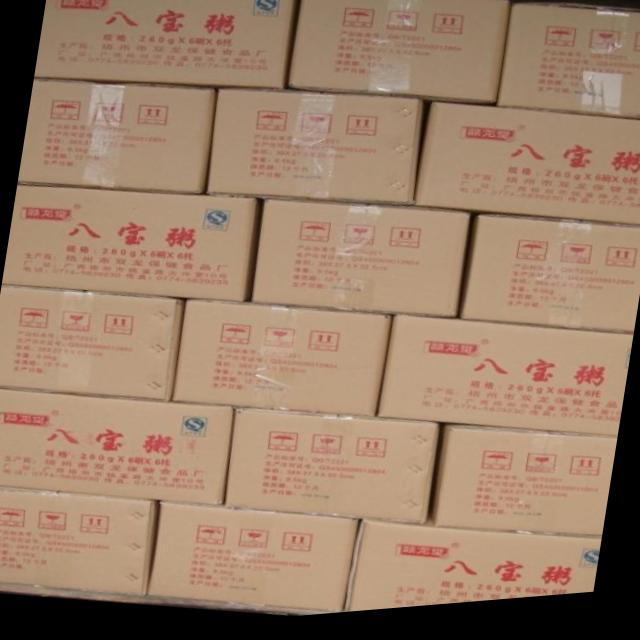box: (2, 184, 264, 305), (380, 321, 631, 447), (414, 107, 640, 236), (0, 388, 233, 511), (244, 201, 471, 323), (225, 410, 441, 532), (35, 0, 306, 97), (176, 301, 392, 422), (203, 93, 427, 209), (293, 0, 508, 115), (17, 76, 220, 196), (148, 506, 363, 618), (0, 283, 189, 404), (346, 529, 601, 618), (459, 222, 640, 342), (420, 432, 611, 545), (0, 486, 160, 600), (497, 11, 640, 127)
